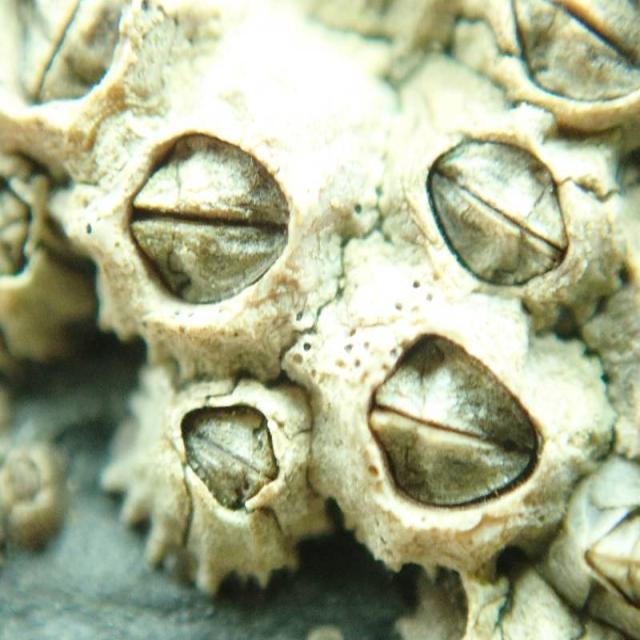barnacles: (72, 93, 327, 376), (324, 307, 600, 559), (121, 350, 326, 597), (410, 122, 626, 334)
